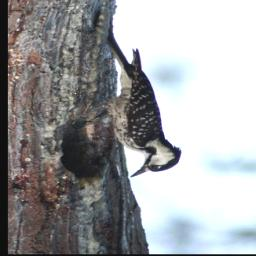Woodpecker: (75, 32, 184, 180)
